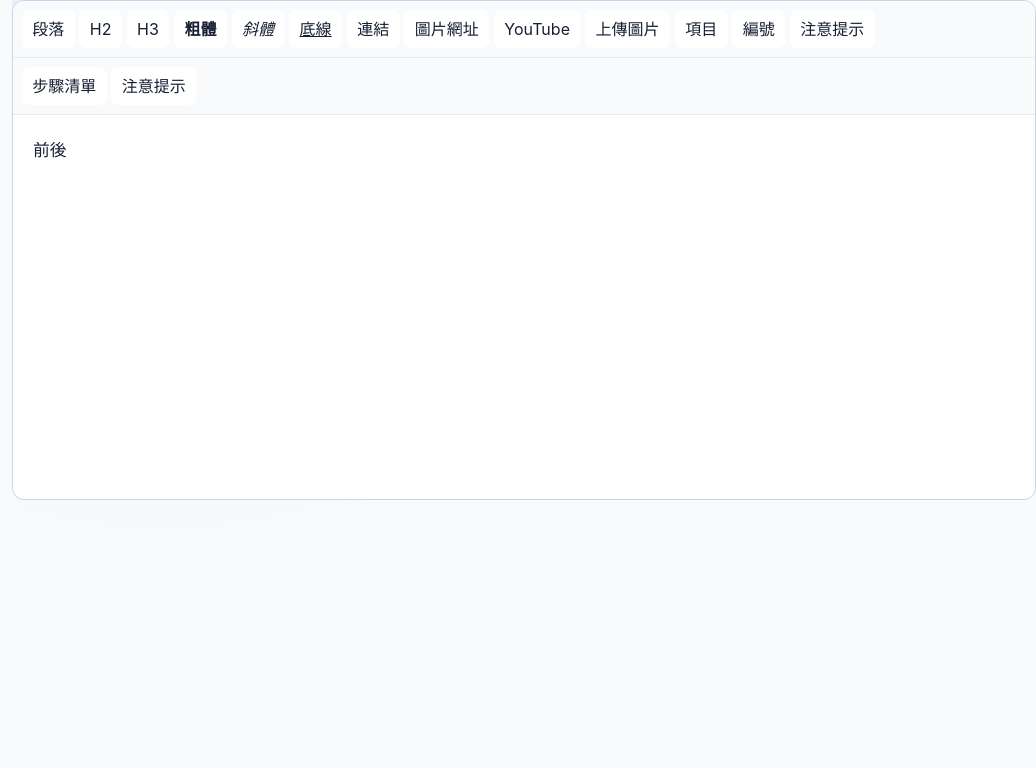
it: RichTextEditor media controls › inserts a URL image at the saved cursor position after the editor loses focus
This screenshot has width=1036, height=768.
Click the button "圖片網址" at (447, 29), box top-left (404, 10), bottom-right (489, 48)
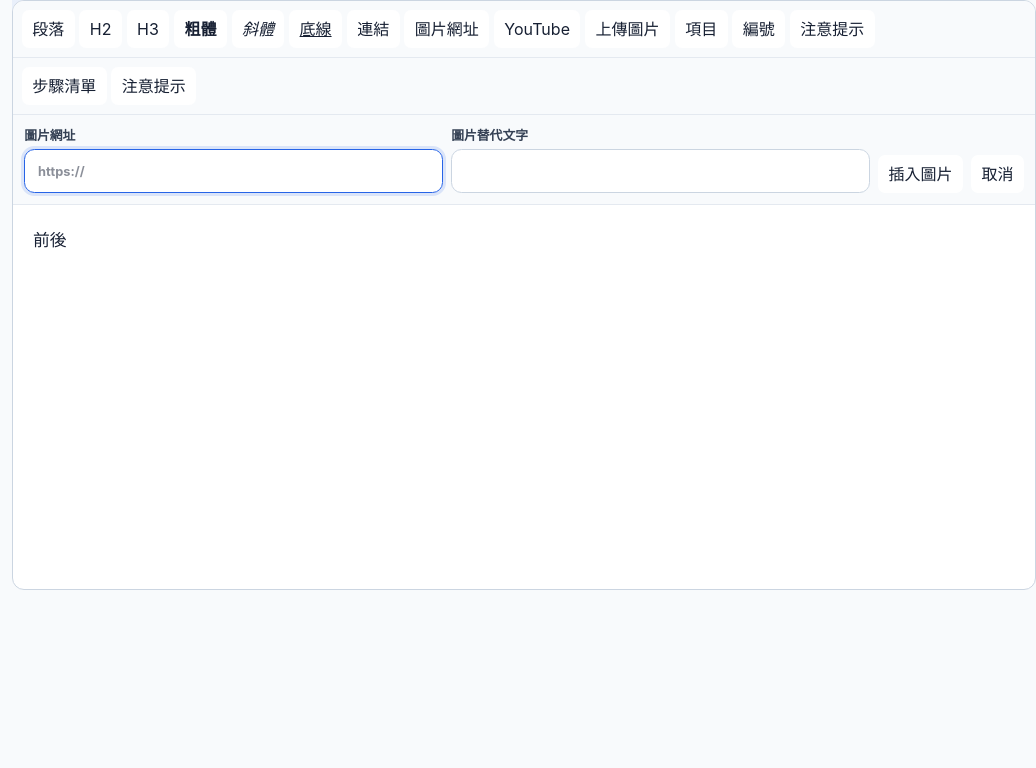
Type "https://media.example.com/image.png" into the field labelled "圖片網址" at (234, 171), box top-left (24, 149), bottom-right (443, 193)
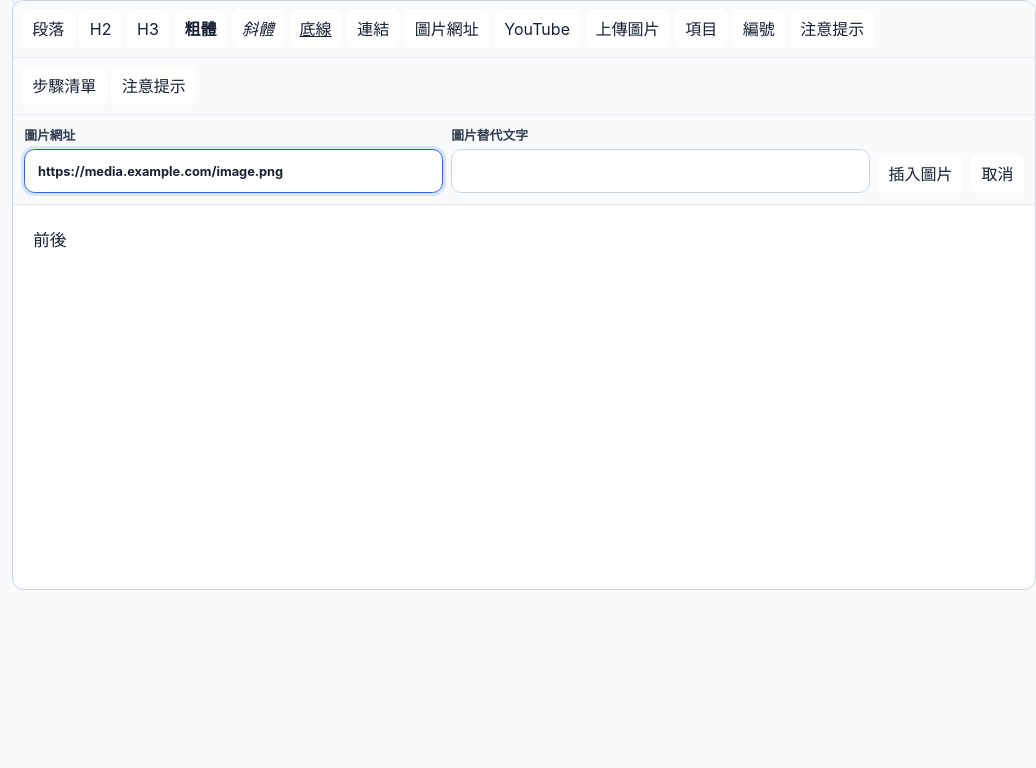
Click the button "插入圖片" at (921, 174), box top-left (878, 154), bottom-right (963, 193)
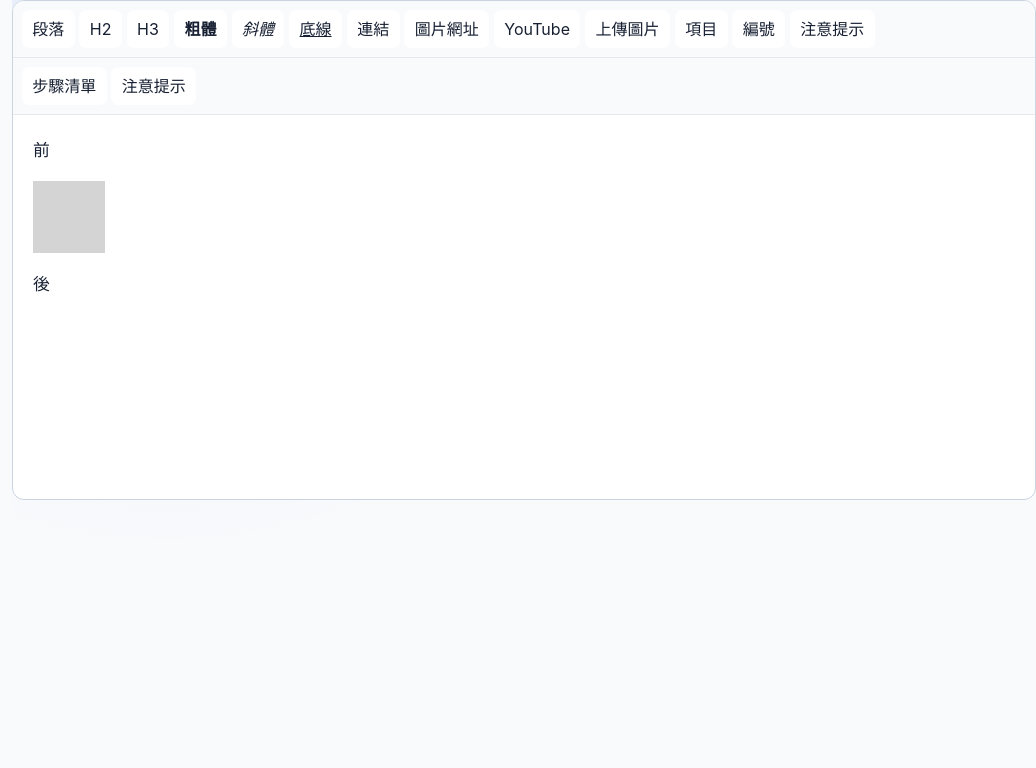
Expected: the text box labelled "前 後" is shown, top-left (33, 140), bottom-right (105, 294)
